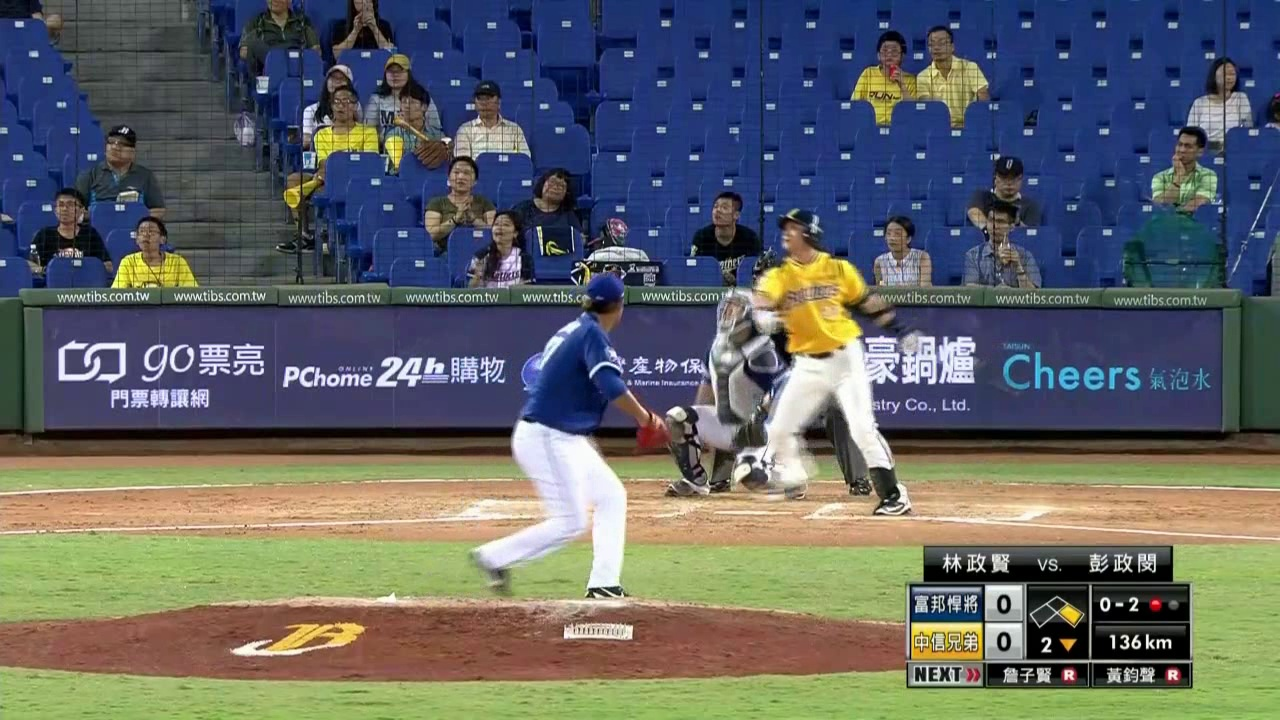base: (1028, 590, 1086, 629)
out: (1145, 590, 1184, 619)
score1: (987, 587, 1019, 618)
score2: (987, 625, 1021, 655)
session: (1027, 628, 1084, 656)
speed: (1100, 628, 1182, 656)
strikeball: (1094, 584, 1145, 620)
